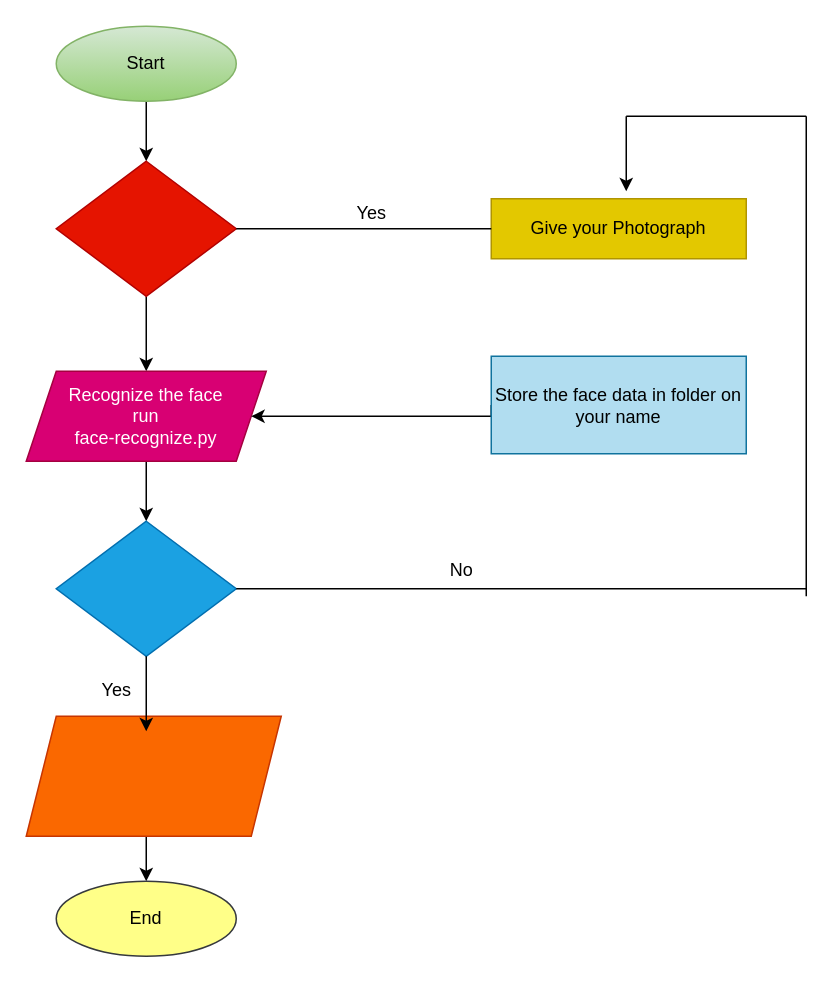
The diagram is 834 pixels wide and 983 high, and some of its shapes have lost their labels. Each missing label, with the centre of its shape:
"Face Recognize" belongs at point (145, 588).
"New User? run create" belongs at point (145, 228).
"Stored in CSV file with Regstration Number&Date Time of Entry" belongs at point (153, 775).
